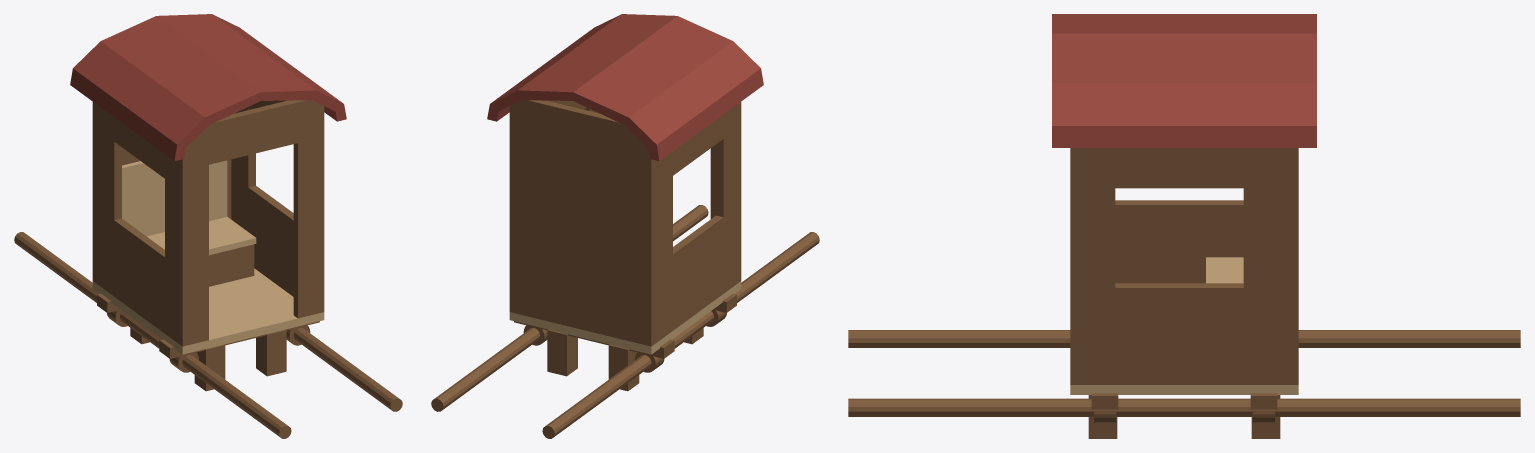
3 renders of one model, left to right at view 1: azimuth 30°, elevation 25°; view 2: azimuth 150°, elevation 25°; view 3: azimuth 270°, elevation 25°, orthographic. The views are drawn at different scales.
Parts seen in each view (by area): view 1: WholeThickArchedCanopyRoof, WholeWindowSideWall-0.51, WholeWindowSideWall0.455, WholeRaisedCabinFloor, FrontEntryRightJamb, WholeFrontEntryHeader, FrontEntryLeftJamb, WholeInternalSeatBack, WholeContinuousCarryingPole-0.4, WholeContinuousCarryingPole0.4, WholeInternalSeatPlinth, WholeInternalSeatTop (+4 smaller); view 2: WholeRearCabinWall, WholeThickArchedCanopyRoof, WholeWindowSideWall-0.51, WholeContinuousCarryingPole-0.4, WholeContinuousCarryingPole0.4, WholeWindowSideWall0.455, WholeRaisedCabinFloor, WholeShortRestingFoot(0.22, 0.4), WholeShortRestingFoot(-0.22, 0.4), WholeTransverseFloorBearer0.39, FrontEntryLeftJamb; view 3: WholeWindowSideWall0.455, WholeThickArchedCanopyRoof, WholeContinuousCarryingPole0.4, WholeWindowSideWall-0.51, WholeContinuousCarryingPole-0.4, WholeRaisedCabinFloor, WholeInternalSeatTop.
Boxes of the visible parts, bbox=[...] form: WholeThickArchedCanopyRoof: bbox=[70, 14, 346, 161]; WholeWindowSideWall-0.51: bbox=[92, 102, 190, 346]; WholeWindowSideWall0.455: bbox=[231, 100, 324, 313]; WholeRaisedCabinFloor: bbox=[92, 268, 324, 354]; FrontEntryRightJamb: bbox=[293, 100, 316, 318]; WholeFrontEntryHeader: bbox=[209, 100, 297, 164]; FrontEntryLeftJamb: bbox=[190, 126, 208, 344]; WholeInternalSeatBack: bbox=[122, 160, 227, 236]; WholeContinuousCarryingPole-0.4: bbox=[14, 232, 291, 438]; WholeContinuousCarryingPole0.4: bbox=[293, 328, 402, 411]; WholeInternalSeatPlinth: bbox=[209, 244, 254, 286]; WholeInternalSeatTop: bbox=[147, 217, 256, 255]; WholeRearCabinWall: bbox=[517, 100, 643, 344]; WholeThickArchedCanopyRoof: bbox=[487, 14, 763, 161]; WholeWindowSideWall-0.51: bbox=[643, 102, 741, 346]; WholeContinuousCarryingPole-0.4: bbox=[542, 232, 819, 438]; WholeContinuousCarryingPole0.4: bbox=[431, 205, 708, 411]; WholeWindowSideWall0.455: bbox=[509, 100, 598, 313]; WholeRaisedCabinFloor: bbox=[509, 281, 741, 354]; WholeShortRestingFoot(0.22, 0.4): bbox=[547, 329, 577, 376]; WholeShortRestingFoot(-0.22, 0.4): bbox=[608, 344, 639, 391]; WholeTransverseFloorBearer0.39: bbox=[514, 321, 674, 358]; FrontEntryLeftJamb: bbox=[710, 144, 715, 218]; WholeWindowSideWall0.455: bbox=[1070, 148, 1298, 384]; WholeThickArchedCanopyRoof: bbox=[1052, 14, 1316, 147]; WholeContinuousCarryingPole0.4: bbox=[848, 398, 1520, 416]; WholeWindowSideWall-0.51: bbox=[1115, 200, 1243, 283]; WholeContinuousCarryingPole-0.4: bbox=[848, 330, 1520, 347]; WholeRaisedCabinFloor: bbox=[1070, 385, 1298, 394]; WholeInternalSeatTop: bbox=[1206, 257, 1243, 283].
Bounding box in the file's own units: 1.24 × 2.06 × 3.3.
